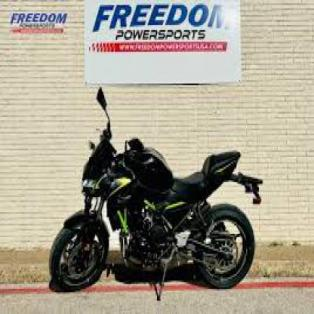Motocicleta: (48, 86, 266, 307)
